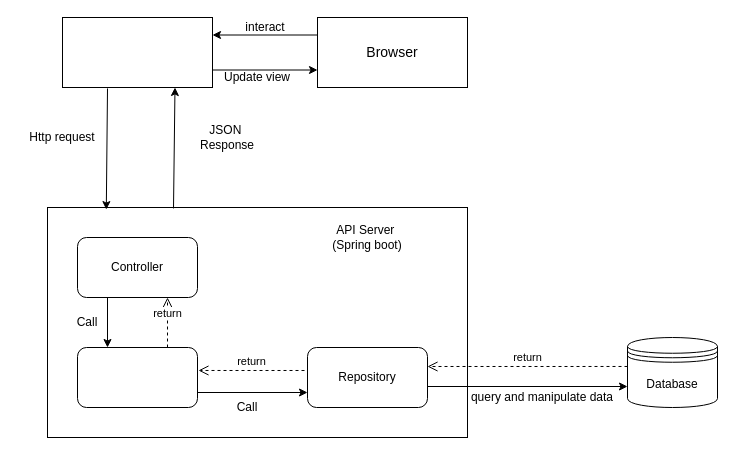
The diagram is 735 pixels wide and 455 high, and some of its shapes have lost their labels. The box of each missing label's shape, as (x1, y1, x2, y2) in pixels:
Front-end Service: (62, 16, 212, 88)
Service: (76, 346, 198, 408)
